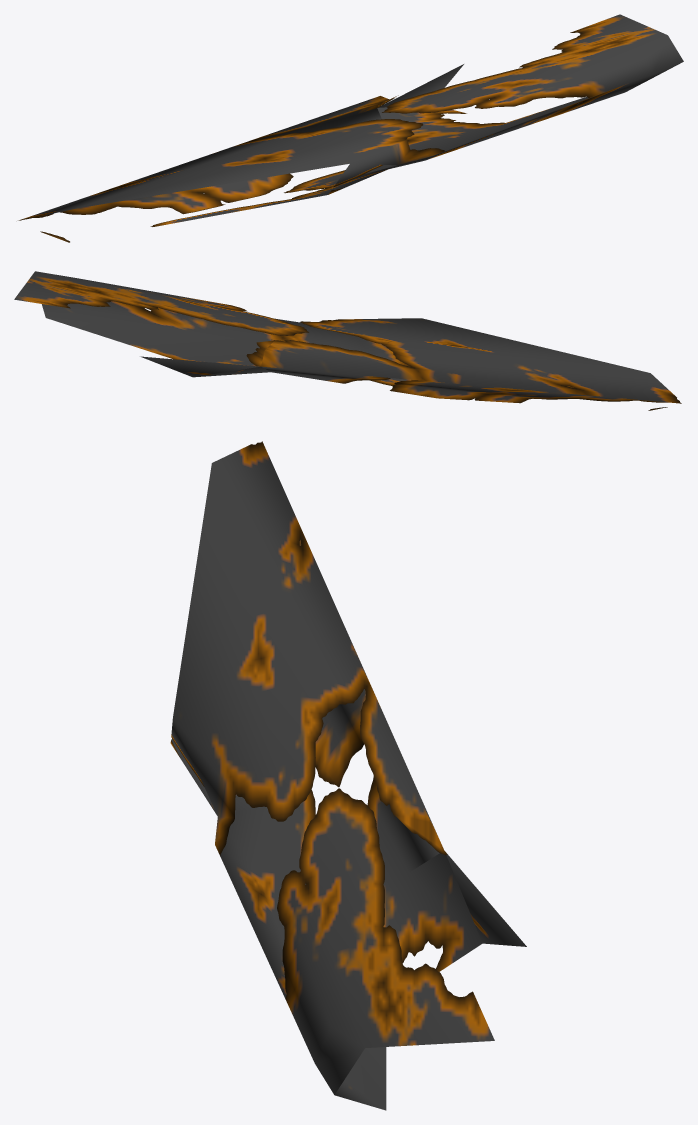
Rendered from DefaultChunk003.fbx.
3 views of the same model, one above another, from view 1: azimuth 30°, elevation 25°; view 2: azimuth 150°, elevation 25°; view 3: azimuth 270°, elevation 25° (orthographic). The views are drawn at different scales.
Visible parts, largest first — view 1: chunk003; view 2: chunk003; view 3: chunk003.
Part boxes in pixels (bbox=[...]): chunk003: bbox=[18, 14, 683, 242]; chunk003: bbox=[14, 271, 681, 410]; chunk003: bbox=[170, 441, 526, 1110].
Size of the model in its own units: 461 by 41.91 by 113.
Materials: 1 (1 with a texture image).
